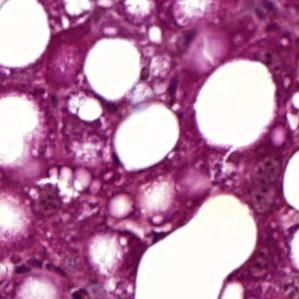steatosis: (195, 58, 279, 153), (114, 103, 182, 169), (80, 38, 146, 99)
